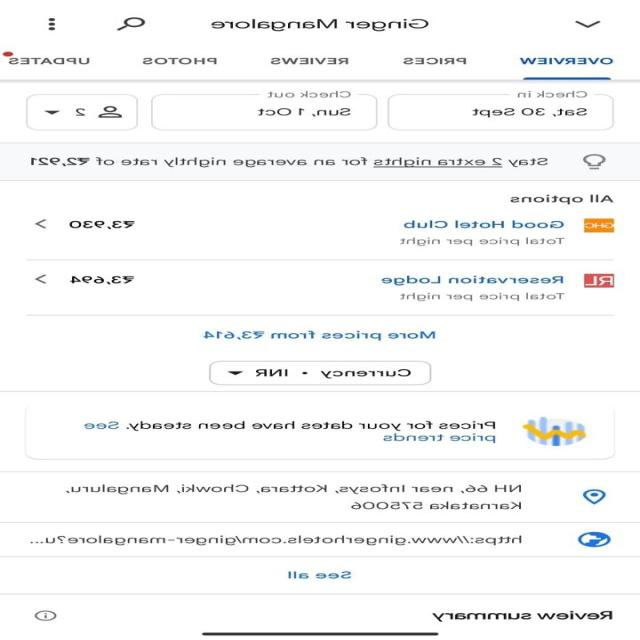Drawer: (576, 530, 610, 549), (115, 15, 148, 32), (581, 488, 608, 506), (29, 609, 62, 623), (573, 17, 603, 32), (96, 105, 125, 119), (580, 154, 604, 170), (30, 271, 50, 285), (28, 218, 51, 230), (44, 16, 58, 34)
EditText: (522, 416, 586, 447), (582, 215, 614, 233), (582, 273, 616, 288)
Icon: (24, 533, 523, 546), (200, 329, 438, 341), (378, 274, 563, 286), (398, 220, 562, 232)
Modal: (24, 155, 550, 170), (62, 485, 522, 495), (212, 18, 430, 31), (430, 609, 616, 624), (396, 291, 564, 303), (347, 502, 523, 512), (397, 237, 566, 246), (507, 195, 613, 204), (65, 218, 137, 230), (66, 273, 138, 285)
